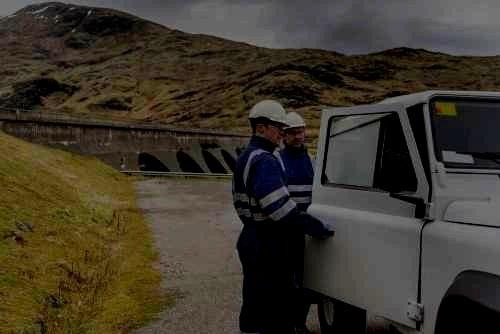helmet: (247, 99, 291, 146), (281, 112, 307, 146)
